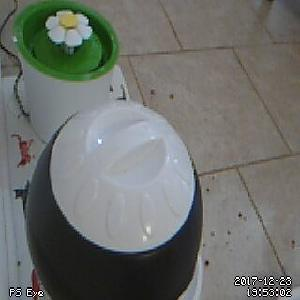fountain: (13, 1, 119, 82)
